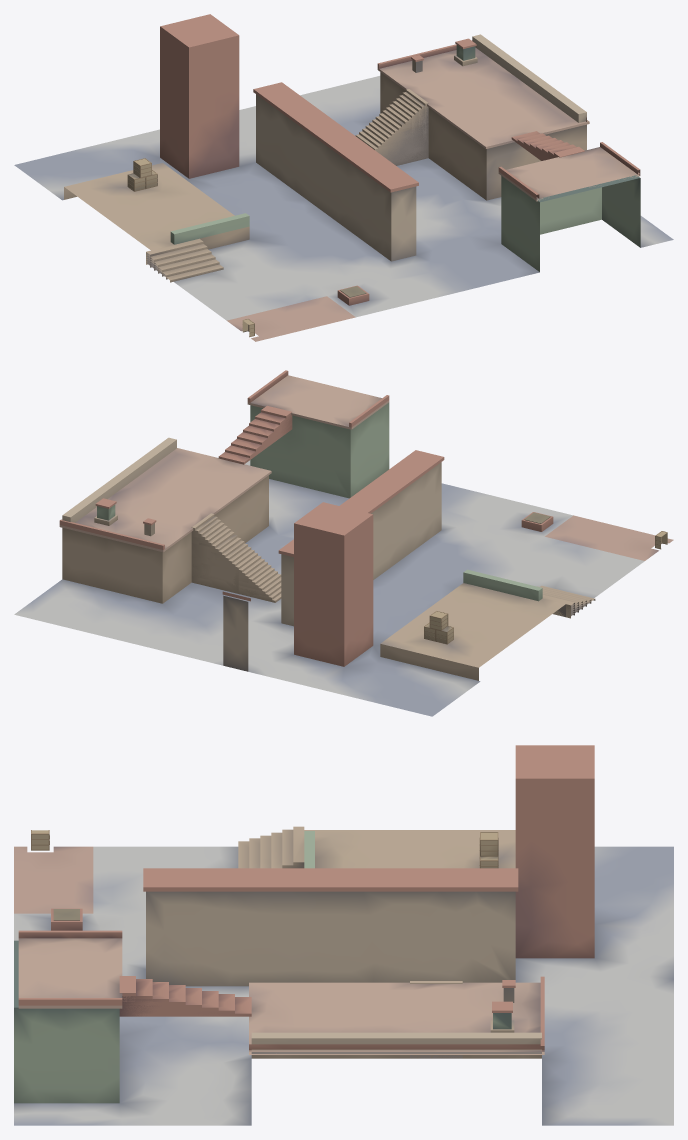
3 renders of one model, top to bottom at view 1: azimuth 30°, elevation 25°; view 2: azimuth 150°, elevation 25°; view 3: azimuth 270°, elevation 25°, orthographic. The views are drawn at different scales.
Visible parts, largest first — view 1: t; view 2: t; view 3: t.
Part boxes in pixels (x1,y1,x2,y2): t: (14, 14, 673, 341); t: (14, 370, 673, 716); t: (14, 745, 673, 1125).
Bounding box in the file's own units: 50.6 × 15 × 50.
